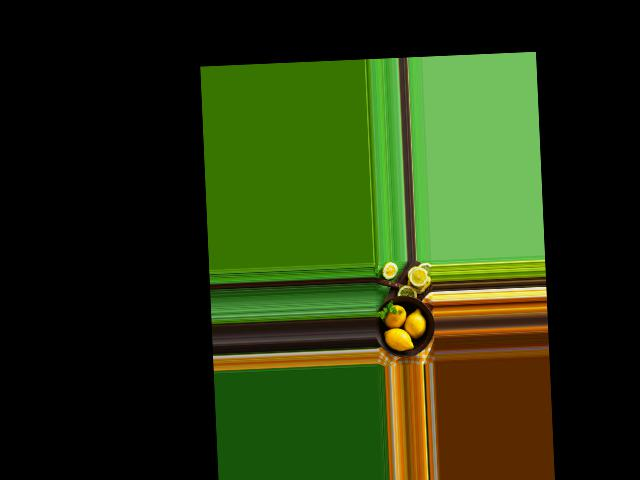lemon: (380, 324, 415, 355)
